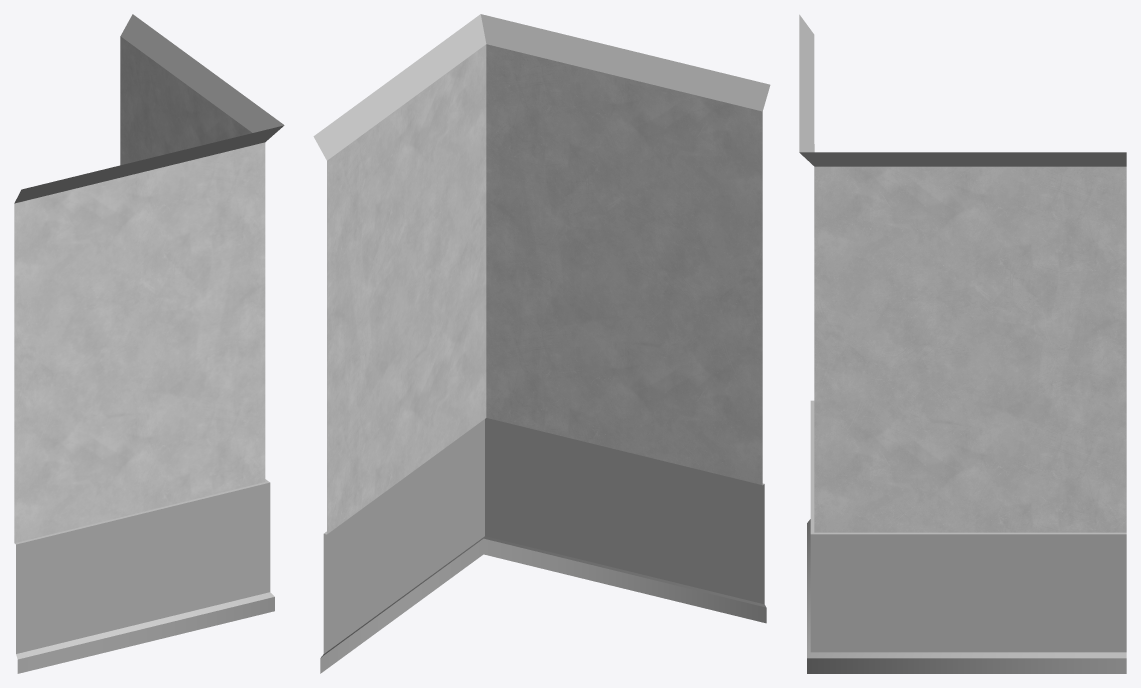
The model's file is WallIntCorneroutside2A.fbx.
3 views of the same model, side by side, from view 1: azimuth 30°, elevation 25°; view 2: azimuth 150°, elevation 25°; view 3: azimuth 270°, elevation 25° (orthographic). The views are drawn at different scales.
Visible parts, largest first — view 1: WallIntCorneroutside2A; view 2: WallIntCorneroutside2A; view 3: WallIntCorneroutside2A.
Boxes of the visible parts, x1,y1,x2,y2 form: WallIntCorneroutside2A: (14,14,284,673); WallIntCorneroutside2A: (313,14,770,673); WallIntCorneroutside2A: (799,14,1126,673).
Bounding box in the file's own units: 215 × 380 × 215.
